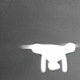plane: (18, 41, 80, 75)
